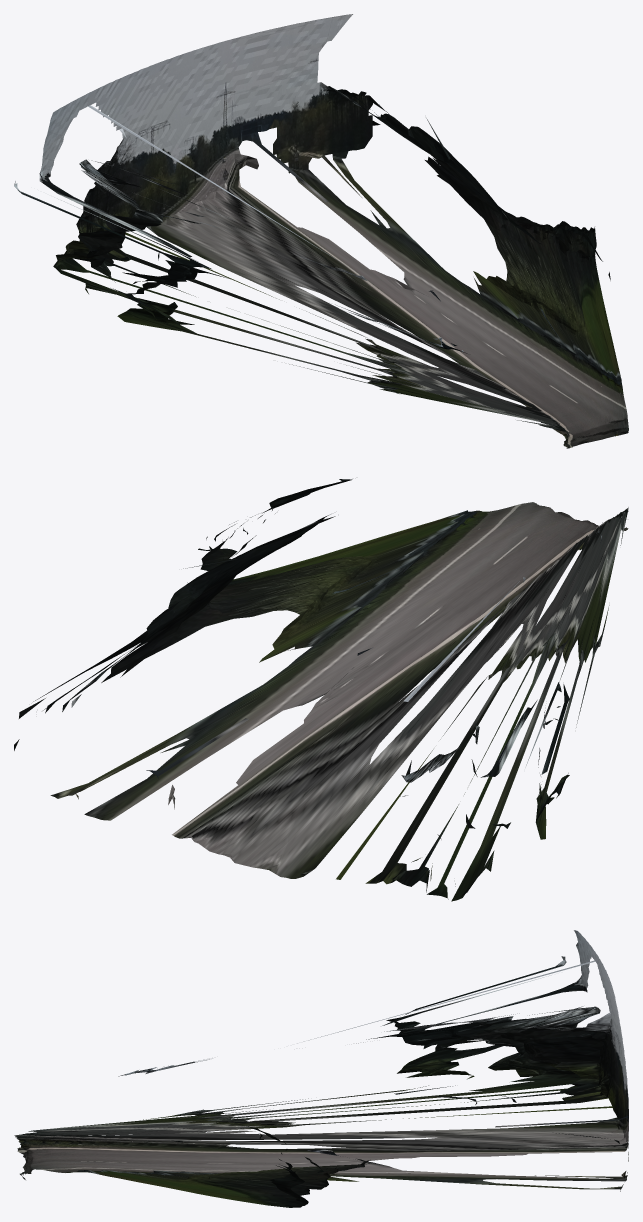
The picture shows the model from 3 angles, top to bottom: view 1: azimuth 30°, elevation 25°; view 2: azimuth 150°, elevation 25°; view 3: azimuth 270°, elevation 25°; orthographic projection. The views are drawn at different scales.
Visible parts, largest first — view 1: defaultobject; view 2: defaultobject; view 3: defaultobject.
Part boxes in pixels (x1=…): defaultobject: x1=14, y1=14, x2=628, y2=448; defaultobject: x1=14, y1=479, x2=628, y2=901; defaultobject: x1=14, y1=930, x2=628, y2=1207.
Bounding box in the file's own units: 32.38 × 12.34 × 44.87.
Materials: 1 (1 with a texture image).
